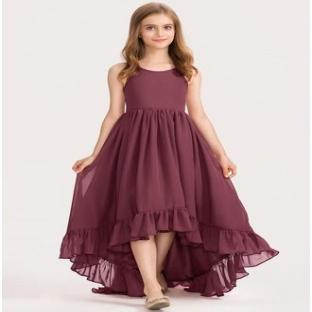Human: (60, 3, 278, 308)
